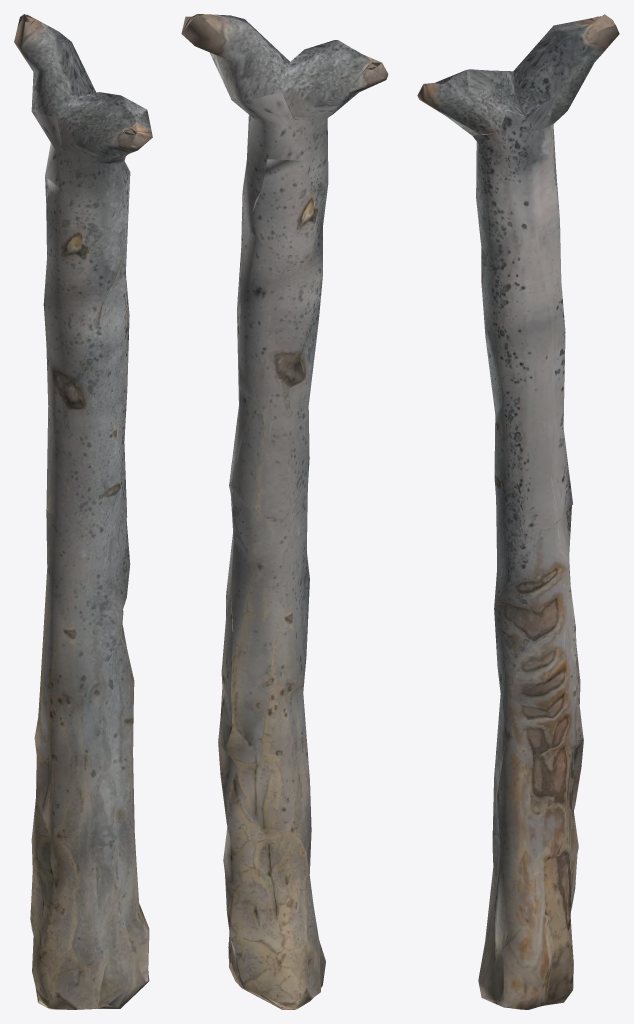
Rendered from dead-trunk.glb.
The picture shows the model from 3 angles, left to right: view 1: azimuth 90°, elevation 25°; view 2: azimuth 150°, elevation 25°; view 3: azimuth 330°, elevation 25°; orthographic projection. The views are drawn at different scales.
Parts seen in each view (by area): view 1: dead_quiver_trunk_LOD0; view 2: dead_quiver_trunk_LOD0; view 3: dead_quiver_trunk_LOD0.
Boxes of the visible parts, x1,y1,x2,y2 form: dead_quiver_trunk_LOD0: (14, 14, 152, 1009); dead_quiver_trunk_LOD0: (181, 14, 388, 1009); dead_quiver_trunk_LOD0: (417, 14, 619, 1009).
Bounding box in the file's own units: 0.3043 × 2 × 0.2611.
1 material, 1 textured.
